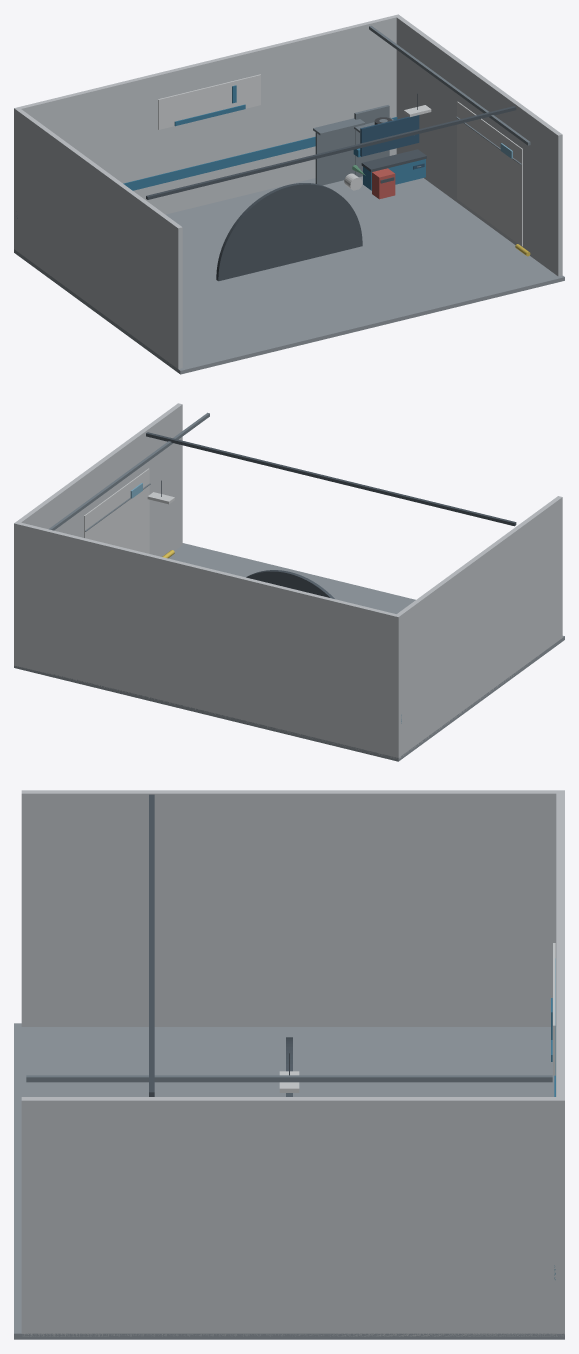
Rendered from nwt_workshop_room.glb.
3 renders of one model, top to bottom at view 1: azimuth 30°, elevation 25°; view 2: azimuth 150°, elevation 25°; view 3: azimuth 270°, elevation 25°, orthographic. The views are drawn at different scales.
Parts seen in each view (by area): view 1: Polished concrete floor, Rear wall, Left wall, Right wall, Circular display platform base, Garage door panel, NWT sign backing, NWT blue wall stripe, Long ceiling beam, Parts shelving frame, Pegboard, Ceiling cross beam (+5 smaller); view 2: Rear wall, Left wall, Right wall, Polished concrete floor, Garage door panel, Long ceiling beam, Circular display platform base, Ceiling cross beam; view 3: Right wall, Left wall, Polished concrete floor, Rear wall, Ceiling cross beam, Long ceiling beam.
Part boxes in pixels (box(x1,y1,x2,y2)): Polished concrete floor: box(14, 176, 564, 374); Rear wall: box(14, 14, 400, 250); Left wall: box(16, 109, 182, 368); Right wall: box(396, 16, 562, 276); Circular display platform base: box(216, 183, 362, 281); Garage door panel: box(457, 101, 522, 246); NWT sign backing: box(158, 74, 260, 129); NWT blue wall stripe: box(17, 117, 397, 218); Long ceiling beam: box(146, 106, 516, 199); Parts shelving frame: box(315, 127, 355, 185); Pegboard: box(360, 115, 419, 156); Ceiling cross beam: box(369, 25, 530, 145); Rear wall: box(14, 521, 400, 759); Left wall: box(396, 496, 562, 757); Right wall: box(17, 403, 182, 556); Polished concrete floor: box(14, 543, 564, 761); Garage door panel: box(84, 468, 149, 553); Long ceiling beam: box(146, 432, 516, 526); Circular display platform base: box(246, 570, 334, 598); Ceiling cross beam: box(49, 412, 209, 530); Right wall: box(21, 1097, 557, 1336); Left wall: box(21, 790, 557, 1026); Polished concrete floor: box(14, 1023, 564, 1339); Rear wall: box(556, 790, 564, 1336); Ceiling cross beam: box(26, 1075, 552, 1082); Long ceiling beam: box(149, 794, 154, 1096).
Bounding box in the file's own units: 24 × 12.85 × 18.
